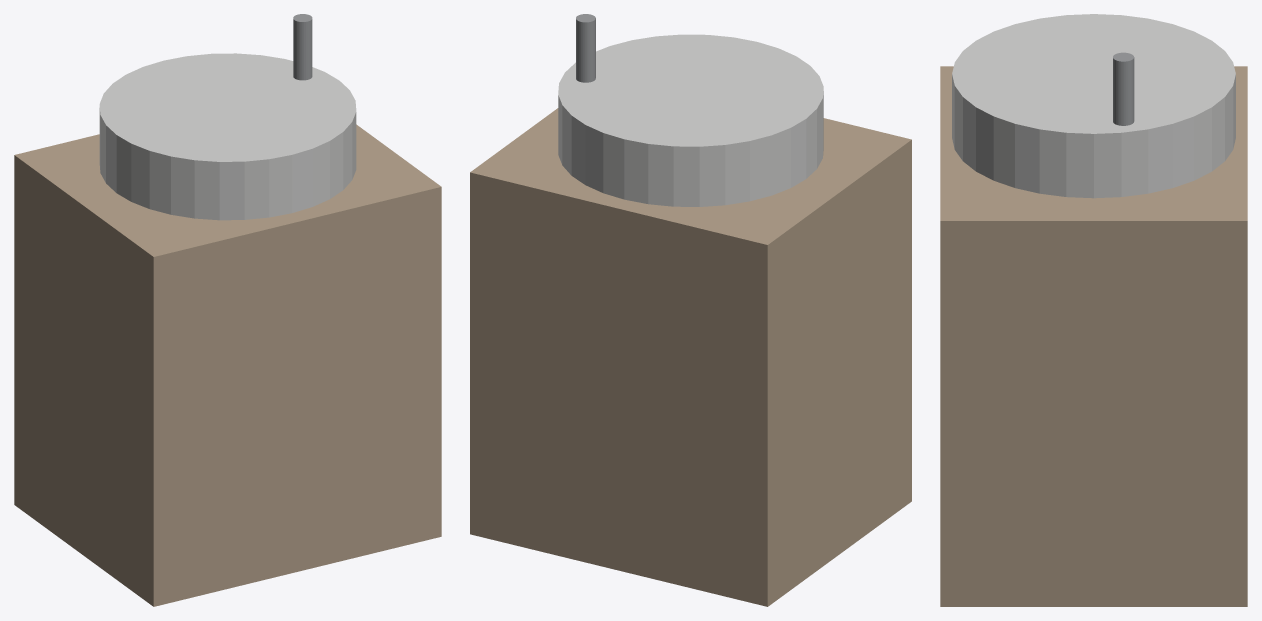
Rendered from basin-round.glb.
3 views of the same model, side by side, from view 1: azimuth 30°, elevation 25°; view 2: azimuth 150°, elevation 25°; view 3: azimuth 270°, elevation 25° (orthographic). The views are drawn at different scales.
Visible parts, largest first — view 1: basin-round_0, basin-round_1, basin-round_2; view 2: basin-round_0, basin-round_1, basin-round_2; view 3: basin-round_0, basin-round_1, basin-round_2.
Boxes of the visible parts, box(x1,y1,x2,y2) form: basin-round_0: box(14, 124, 441, 606); basin-round_1: box(99, 53, 356, 220); basin-round_2: box(293, 14, 312, 80); basin-round_0: box(470, 108, 911, 606); basin-round_1: box(558, 34, 823, 206); basin-round_2: box(576, 14, 595, 82); basin-round_0: box(940, 66, 1247, 606); basin-round_1: box(952, 14, 1235, 198); basin-round_2: box(1113, 52, 1134, 125).
Bounding box in the file's own units: 0.62 × 0.97 × 0.52.
